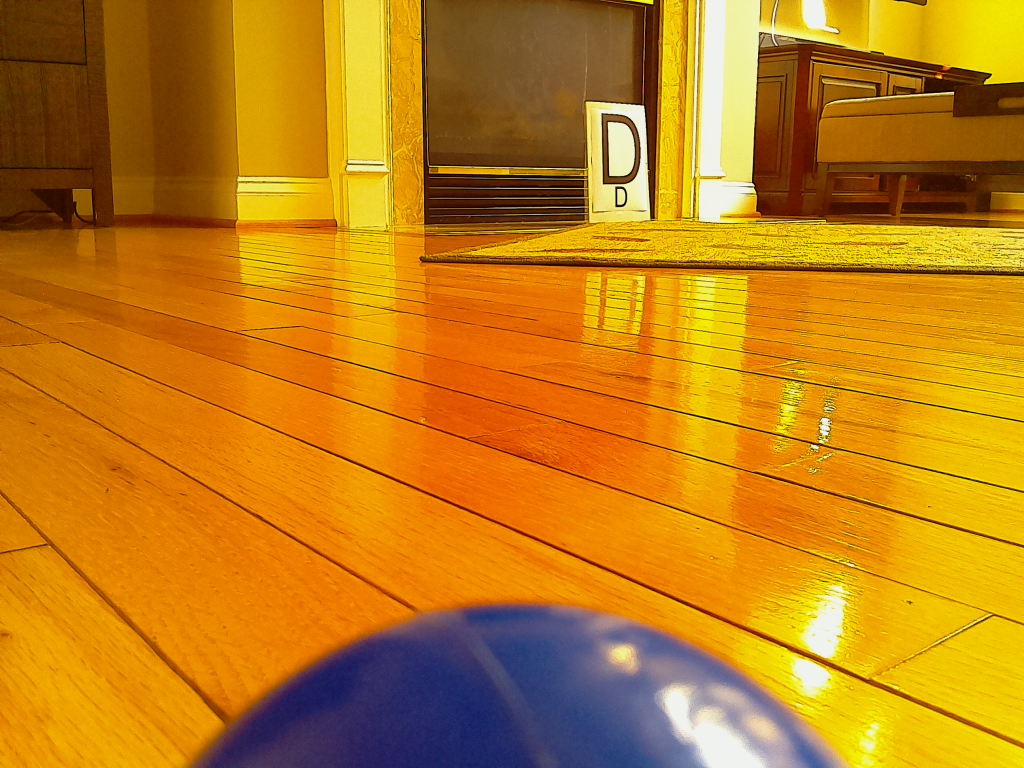letter: (603, 114, 641, 185)
